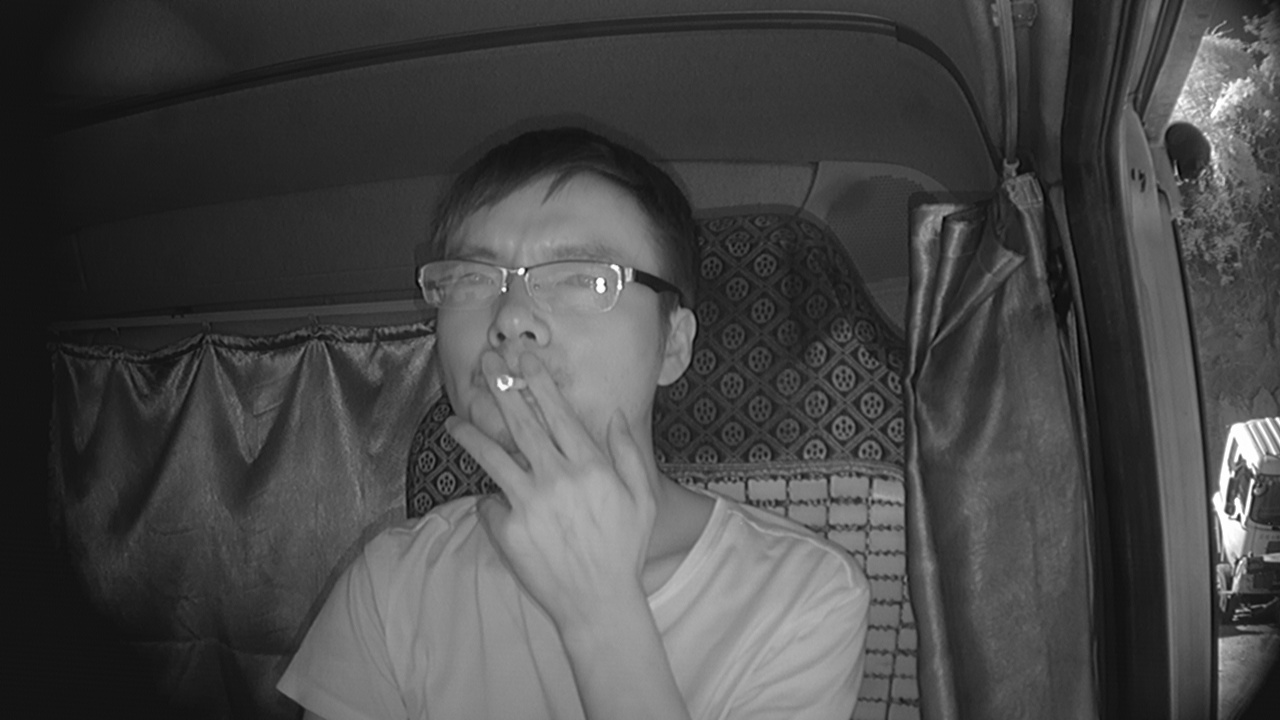hand: (461, 354, 636, 574)
